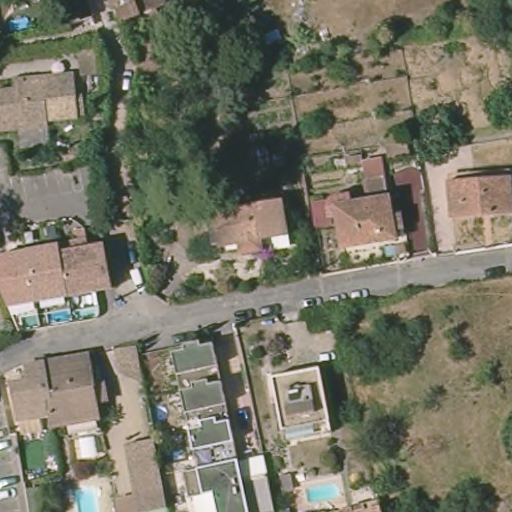pool: (302, 480, 344, 501), (72, 483, 102, 512), (4, 12, 34, 36), (18, 312, 43, 330), (46, 310, 74, 325), (154, 401, 169, 426), (79, 307, 98, 319)
